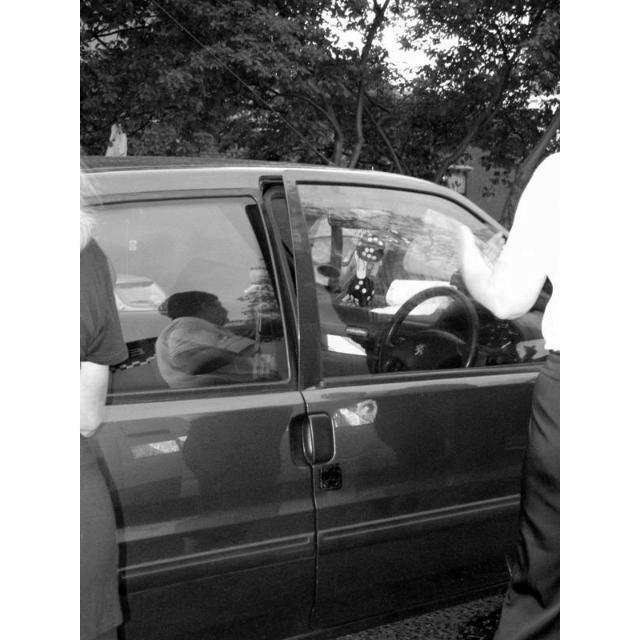doorouter-dent: (285, 183, 558, 578)
